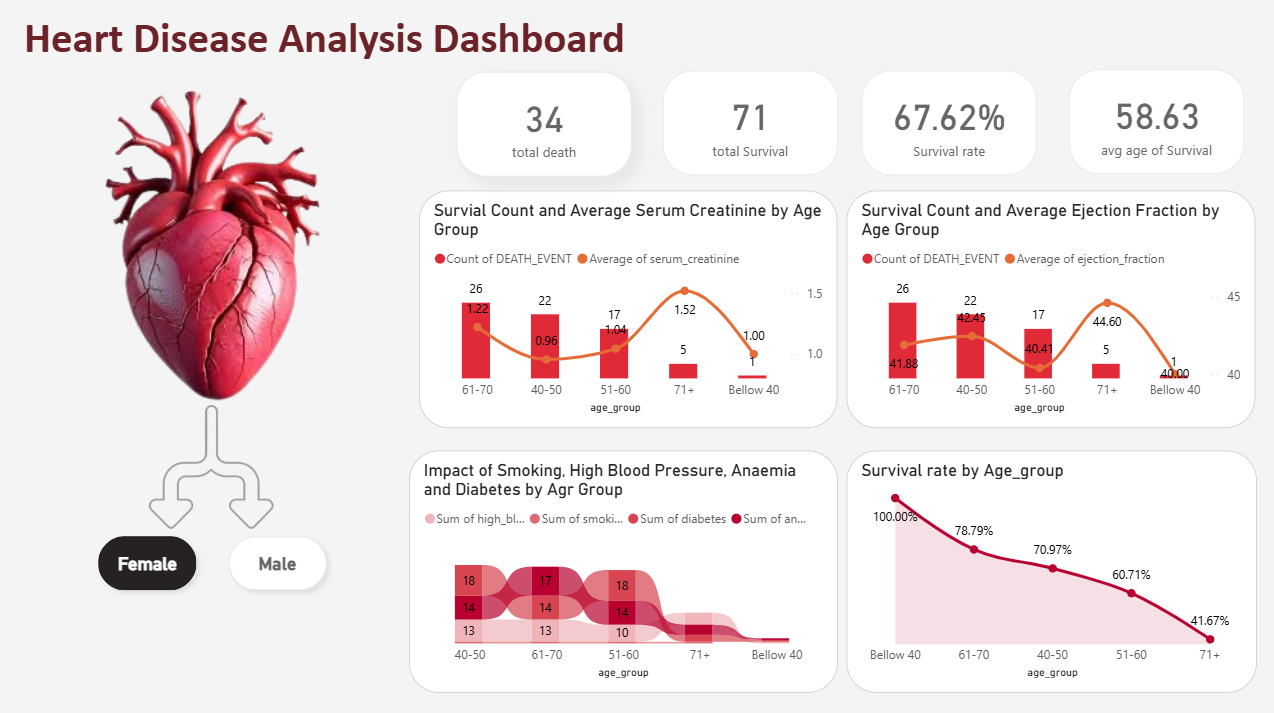

What the dashboard file says about the page in this screenshot:
{"tool":"powerbi","page":{"name":"Page 1","canvas":[1280,720],"ordinal":0},"visuals":[{"type":"lineClusteredColumnComboChart","title":"Survial Count and Average Serum Creatinine by Age Group","fields":{"Category":["heart_Disease_clinical_records_.age_group"],"Y":["CountNonNull(heart_Disease_clinical_records_.DEATH_EVENT)"],"Y2":["Avg(heart_Disease_clinical_records_.serum_creatinine)"]},"box":[420,191.9,418.8,237.5],"z":0},{"type":"lineClusteredColumnComboChart","title":"Survival Count and Average Ejection Fraction by Age Group","fields":{"Category":["heart_Disease_clinical_records_.age_group"],"Y":["CountNonNull(heart_Disease_clinical_records_.DEATH_EVENT)"],"Y2":["Avg(heart_Disease_clinical_records_.ejection_fraction)"]},"box":[847.5,191.9,408.8,237.5],"z":1000},{"type":"lineChart","title":"Survival rate by Age_group","fields":{"Category":["heart_Disease_clinical_records_.age_group"],"Y":["measure.Survival rate"]},"box":[847.5,452.5,410,242.5],"z":2000},{"type":"ribbonChart","title":"Impact of Smoking, High Blood Pressure, Anaemia and Diabetes by Agr Group","fields":{"Category":["heart_Disease_clinical_records_.age_group"],"Y":["Sum(heart_Disease_clinical_records_.high_blood_pressure)","Sum(heart_Disease_clinical_records_.smoking)","Sum(heart_Disease_clinical_records_.diabetes)","Sum(heart_Disease_clinical_records_.anaemia)"]},"box":[410,452.5,428.8,242.5],"z":3000},{"type":"advancedSlicerVisual","fields":{"Values":["heart_Disease_clinical_records_.gender"]},"box":[82.5,526.2,393.8,83.8],"z":4000},{"type":"card","fields":{"Values":["measure.avg age of Survival"]},"box":[1070,70.7,175,105],"z":5000},{"type":"card","fields":{"Values":["measure.total death"]},"box":[457.5,73.2,175,105],"z":6000},{"type":"card","fields":{"Values":["measure.total Survival"]},"box":[663.8,71.9,175,105],"z":7000},{"type":"card","fields":{"Values":["measure.Survival rate"]},"box":[862.5,71.9,175,105],"z":8000},{"type":"textbox","box":[20,8.8,630,67.5],"z":9000},{"type":"image","box":[43.8,76.2,346.2,338.8],"z":9001},{"type":"image","box":[127.5,396.2,168.8,158.8],"z":9002}]}

Visuals, with their boxes in screenshot pixels (x1, y1, x2, y2), scaled from the page's 1280x720 canvas onto the 1274x713 screenshot:
"Survial Count and Average Serum Creatinine by Age Group" lineClusteredColumnComboChart: pyautogui.locateOnScreen(418, 190, 835, 425)
"Survival Count and Average Ejection Fraction by Age Group" lineClusteredColumnComboChart: pyautogui.locateOnScreen(844, 190, 1250, 425)
"Survival rate by Age_group" lineChart: pyautogui.locateOnScreen(844, 448, 1252, 688)
"Impact of Smoking, High Blood Pressure, Anaemia and Diabetes by Agr Group" ribbonChart: pyautogui.locateOnScreen(408, 448, 835, 688)
advancedSlicerVisual - heart_Disease_clinical_records_.gender: pyautogui.locateOnScreen(82, 521, 474, 604)
card - measure.avg age of Survival: pyautogui.locateOnScreen(1065, 70, 1239, 174)
card - measure.total death: pyautogui.locateOnScreen(455, 72, 630, 176)
card - measure.total Survival: pyautogui.locateOnScreen(661, 71, 835, 175)
card - measure.Survival rate: pyautogui.locateOnScreen(858, 71, 1033, 175)
textbox: pyautogui.locateOnScreen(20, 9, 647, 76)
image: pyautogui.locateOnScreen(44, 75, 388, 411)
image: pyautogui.locateOnScreen(127, 392, 295, 550)
